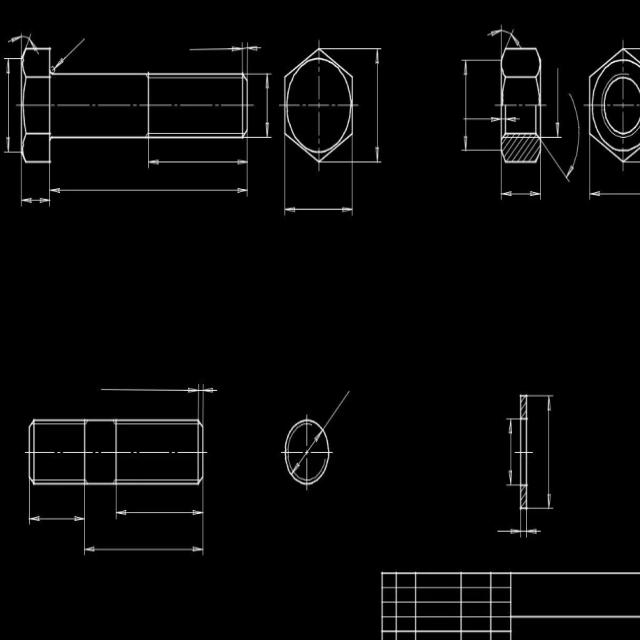marking_line: (51, 185, 247, 194), (291, 428, 324, 474), (540, 139, 575, 182), (53, 38, 89, 70), (85, 545, 203, 554), (487, 27, 524, 49), (149, 158, 246, 166), (7, 34, 42, 55), (374, 50, 380, 162), (591, 189, 640, 201), (6, 58, 12, 153), (547, 397, 552, 508), (286, 205, 352, 213), (117, 509, 203, 515), (101, 388, 197, 393), (553, 68, 560, 136), (462, 61, 467, 150), (508, 419, 514, 484), (188, 45, 242, 52), (30, 515, 84, 522), (265, 74, 270, 137), (462, 114, 501, 122), (502, 190, 539, 198), (22, 196, 50, 204), (496, 529, 520, 536), (249, 44, 263, 51), (527, 527, 541, 534), (205, 387, 217, 395)
